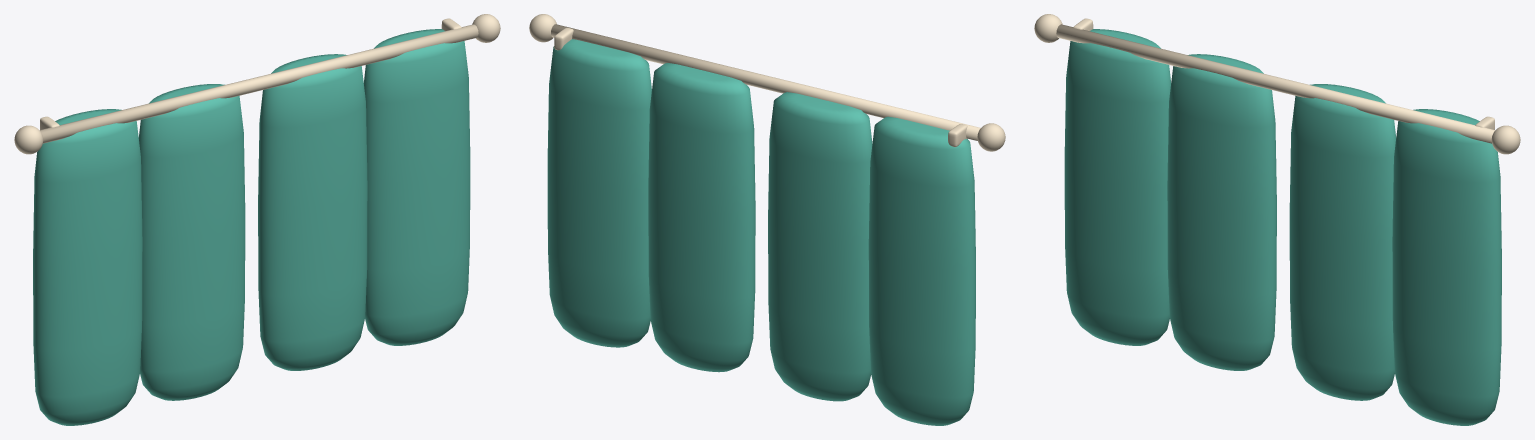
The model's file is curtains_a.glb.
3 renders of one model, left to right at view 1: azimuth 30°, elevation 25°; view 2: azimuth 150°, elevation 25°; view 3: azimuth 330°, elevation 25°, orthographic. The views are drawn at different scales.
Parts seen in each view (by area): view 1: body; view 2: body; view 3: body.
Boxes of the visible parts, box(x1,y1,x2,y2) form: body: box(14, 14, 500, 425); body: box(529, 14, 1005, 425); body: box(1034, 14, 1520, 425).
Bounding box in the file's own units: 1.92 × 1.19 × 0.1976.
